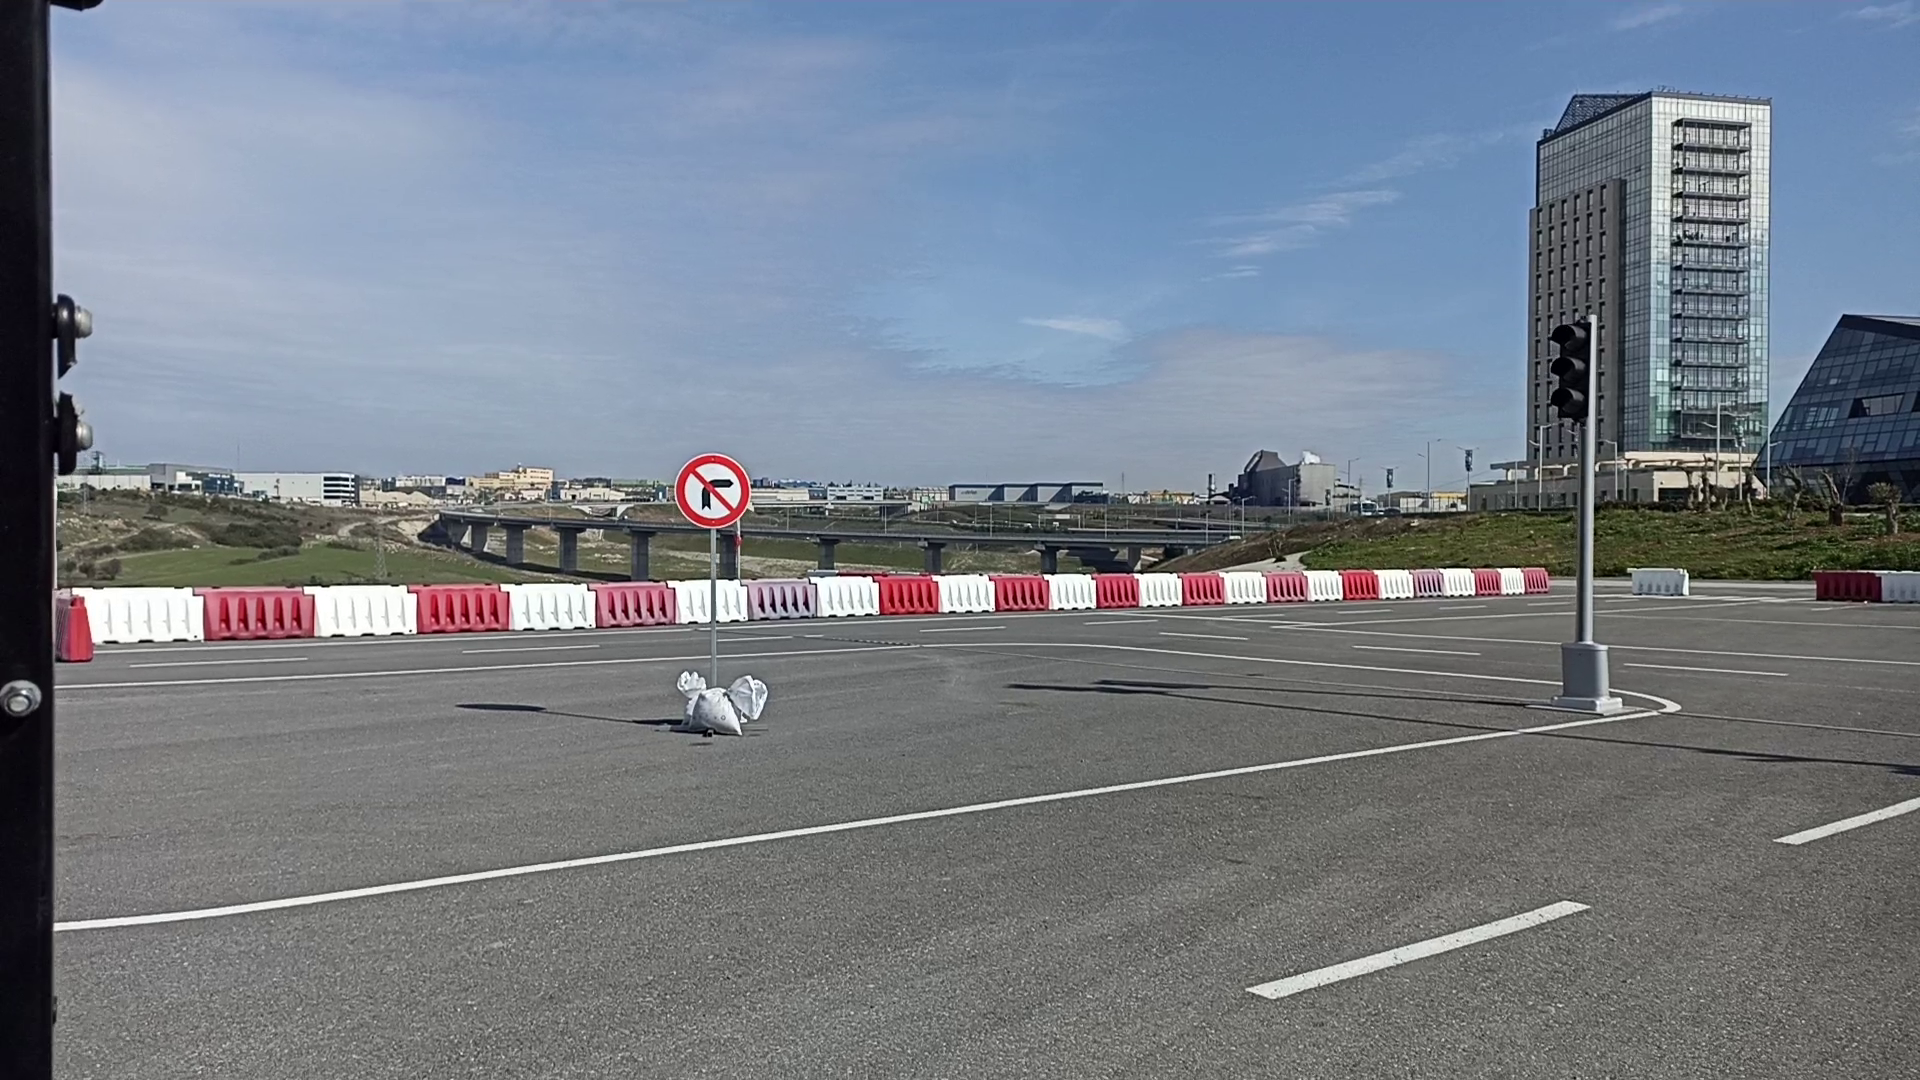noleftturn: (671, 451, 752, 531)
trafficlight: (1547, 313, 1600, 422)
